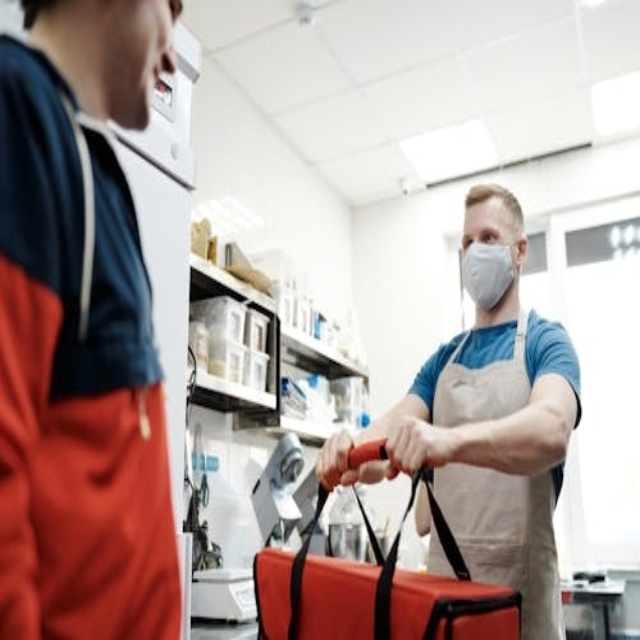Mascara: (462, 241, 517, 310)
Sin_gafas: (458, 217, 509, 250)
Sin_guantes: (387, 407, 453, 480), (316, 425, 386, 492)
Sin_mascara: (114, 50, 179, 129)
